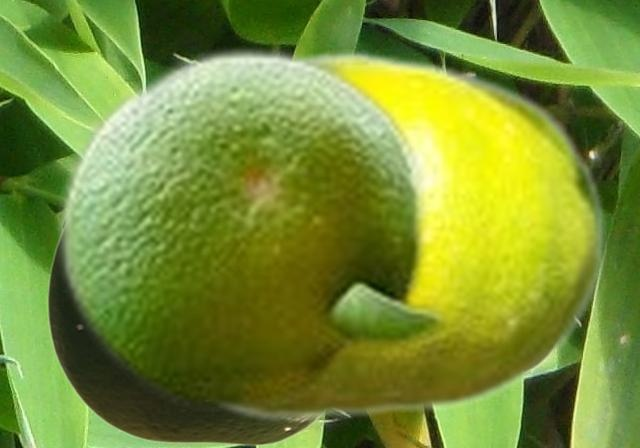dalandan: (53, 41, 452, 410), (212, 49, 605, 423), (46, 250, 317, 445)
